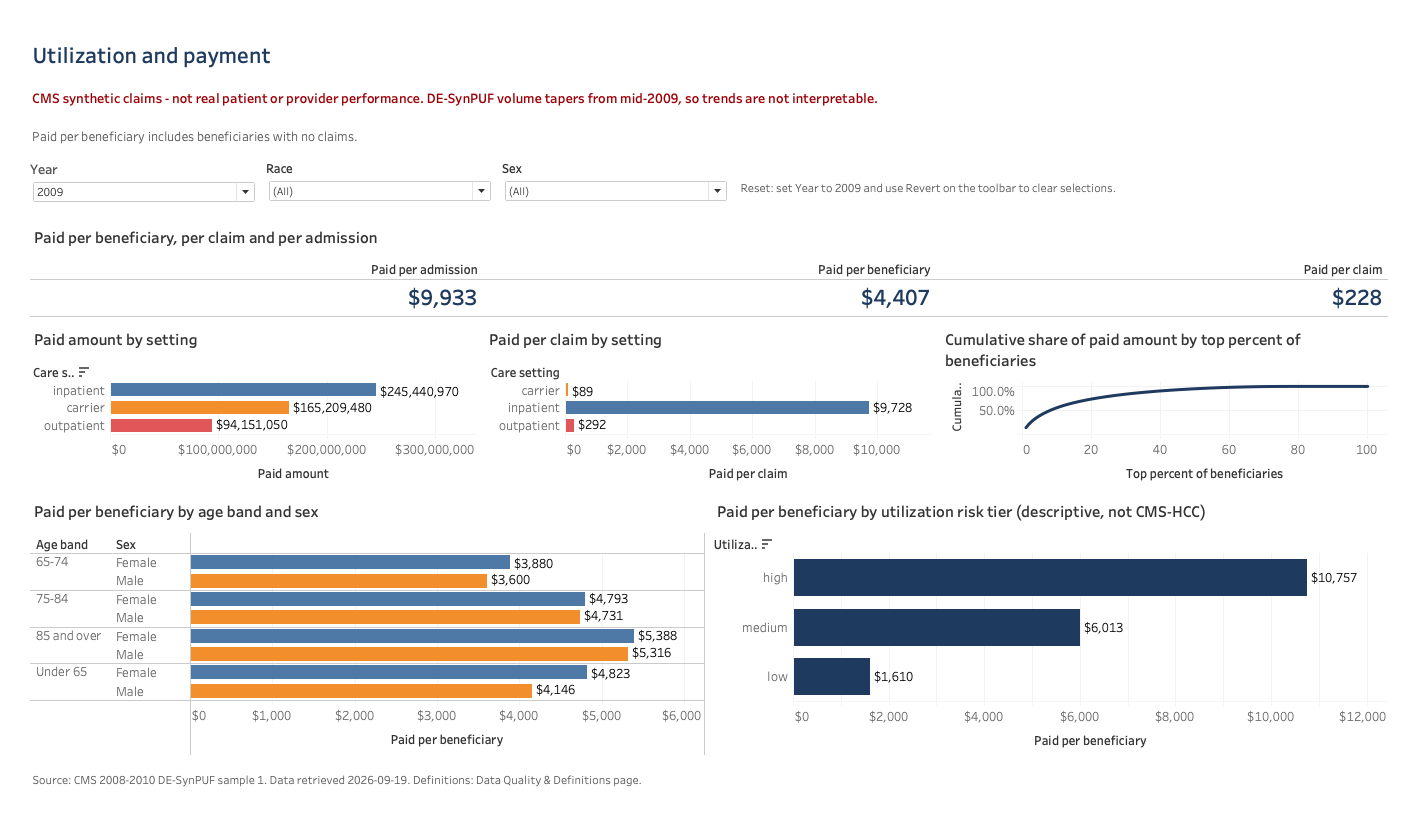

This screenshot's page, from the dashboard's own definition file:
{"tool":"tableau","page":{"name":"Utilization & Payment","canvas":[1366,768],"ordinal":1},"visuals":[{"type":"text","box":[0,0,1366,62.7]},{"type":"text","box":[0,62.7,1366,31.3]},{"type":"text","box":[0,94,1366,31.3]},{"type":"parameter","param":"[Parameters].[year_param]","box":[0,125.4,227.7,62.7]},{"type":"filter","title":"Paid per beneficiary by age band","param":"[federated.e17e90c8e962cd812e301edbc163].[none:race:nk]","box":[227.7,125.4,227.7,62.7]},{"type":"filter","title":"Paid per beneficiary by age band","param":"[federated.e17e90c8e962cd812e301edbc163].[none:sex:nk]","box":[455.3,125.4,227.7,62.7]},{"type":"text","box":[683,125.4,683,62.7]},{"type":"worksheet","title":"Paid per beneficiary, claim and admission","mark":"Text","cols":["paid_measure"],"box":[0,188.1,1366,94]},{"type":"worksheet","title":"Paid by setting","mark":"Bar","rows":["setting"],"cols":["payment_amount"],"box":[0,282.1,455.3,172.4]},{"type":"worksheet","title":"Paid per claim by setting","mark":"Bar","rows":["setting"],"cols":["payment_per_claim"],"box":[455.3,282.1,455.3,172.4]},{"type":"worksheet","title":"Payment concentration curve","mark":"Line","rows":["cumulative_payment_share"],"cols":["beneficiary_percentile"],"box":[910.7,282.1,455.3,172.4]},{"type":"worksheet","title":"Paid per beneficiary by age band","mark":"Bar","rows":["age_band","sex"],"cols":["paid_per_beneficiary"],"box":[0,454.5,683,282.1]},{"type":"worksheet","title":"Risk tier paid per beneficiary","mark":"Bar","rows":["utilization_risk_tier"],"cols":["payment_per_beneficiary"],"box":[683,454.5,683,282.1]},{"type":"text","box":[0,736.7,1366,31.3]}]}

Visuals, with their boxes on the page's 1366x768 design canvas (x1, y1, x2, y2). These are canvas units, not pixel positions in the 1424x826 screenshot, which may show the page scaled, cropped or inside an application window:
text: 0, 0, 1366, 63
text: 0, 63, 1366, 94
text: 0, 94, 1366, 125
parameter: 0, 125, 228, 188
"Paid per beneficiary by age band" filter: 228, 125, 455, 188
"Paid per beneficiary by age band" filter: 455, 125, 683, 188
text: 683, 125, 1366, 188
"Paid per beneficiary, claim and admission" worksheet (Text marks): 0, 188, 1366, 282
"Paid by setting" worksheet (Bar marks): 0, 282, 455, 454
"Paid per claim by setting" worksheet (Bar marks): 455, 282, 911, 454
"Payment concentration curve" worksheet (Line marks): 911, 282, 1366, 454
"Paid per beneficiary by age band" worksheet (Bar marks): 0, 454, 683, 737
"Risk tier paid per beneficiary" worksheet (Bar marks): 683, 454, 1366, 737
text: 0, 737, 1366, 768
